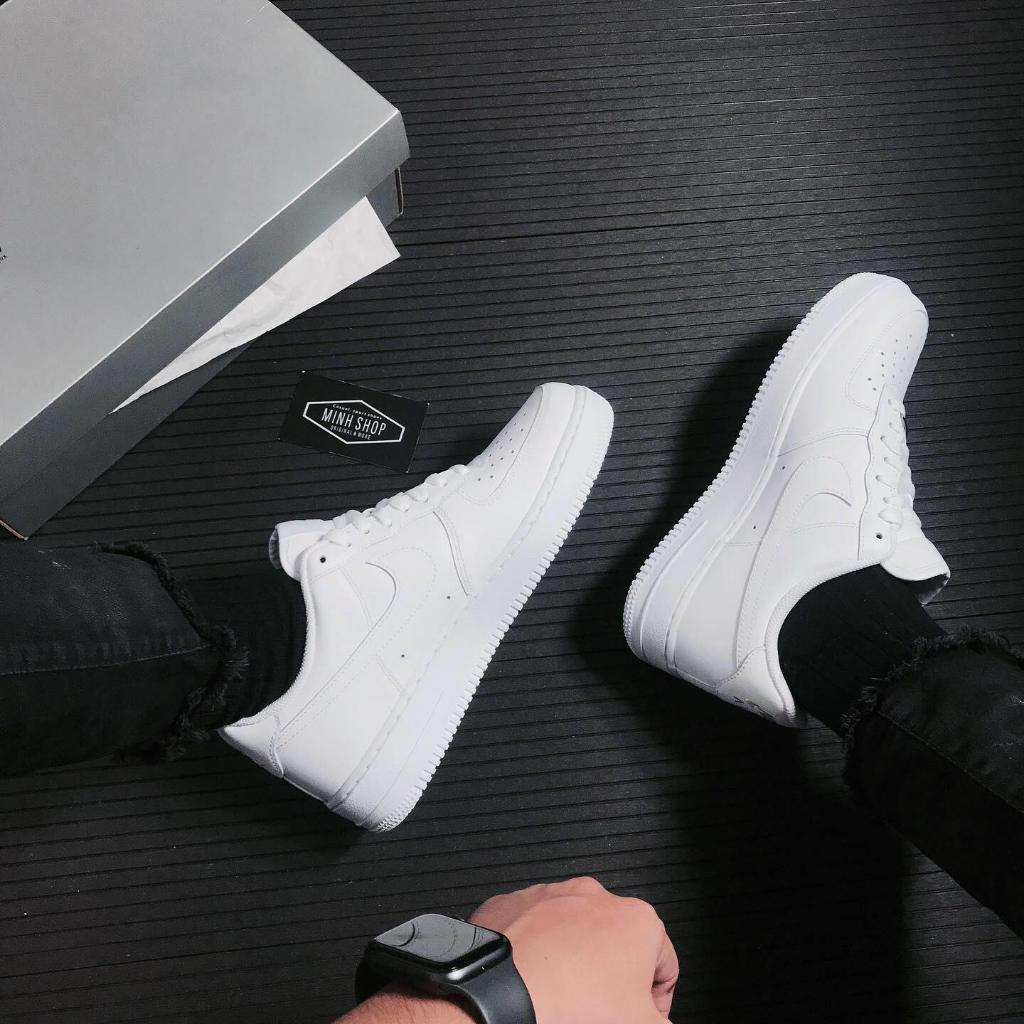sneakers: (222, 377, 614, 841), (623, 270, 953, 730)
